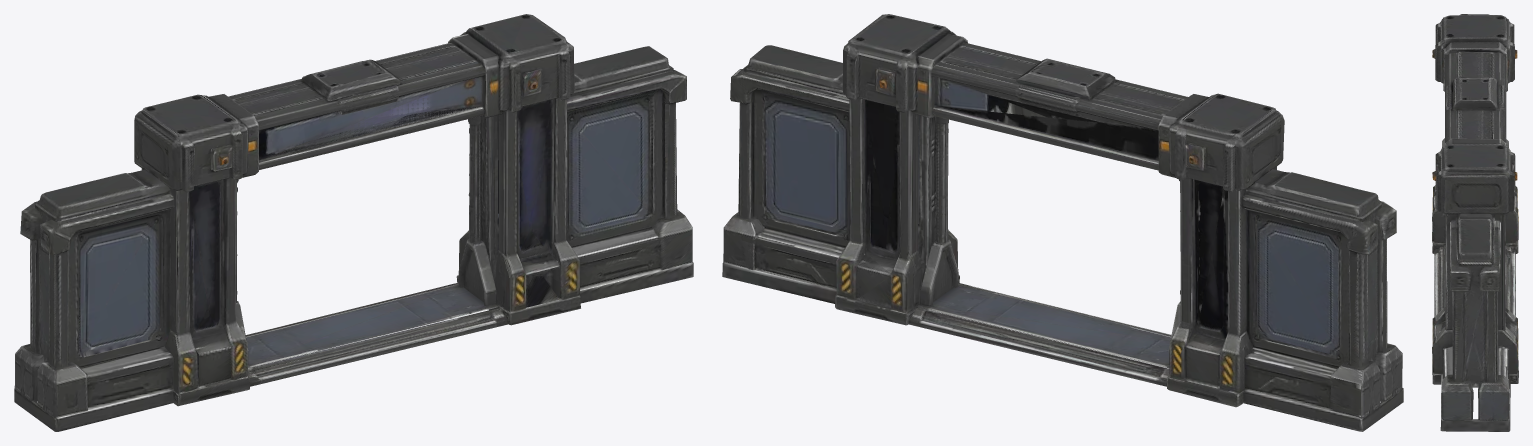
File: gates.glb
3 views of the same model, side by side, from view 1: azimuth 30°, elevation 25°; view 2: azimuth 150°, elevation 25°; view 3: azimuth 270°, elevation 25° (orthographic). The views are drawn at different scales.
Parts seen in each view (by area): view 1: mesh_node; view 2: mesh_node; view 3: mesh_node.
Part boxes in pixels (x1,y1,x2,y2): mesh_node: (14,14,693,431); mesh_node: (722,14,1403,431); mesh_node: (1432,14,1518,431).
Size of the model in its own units: 0.998 by 0.3994 by 0.1455.
Materials: 1 (1 with a texture image).
